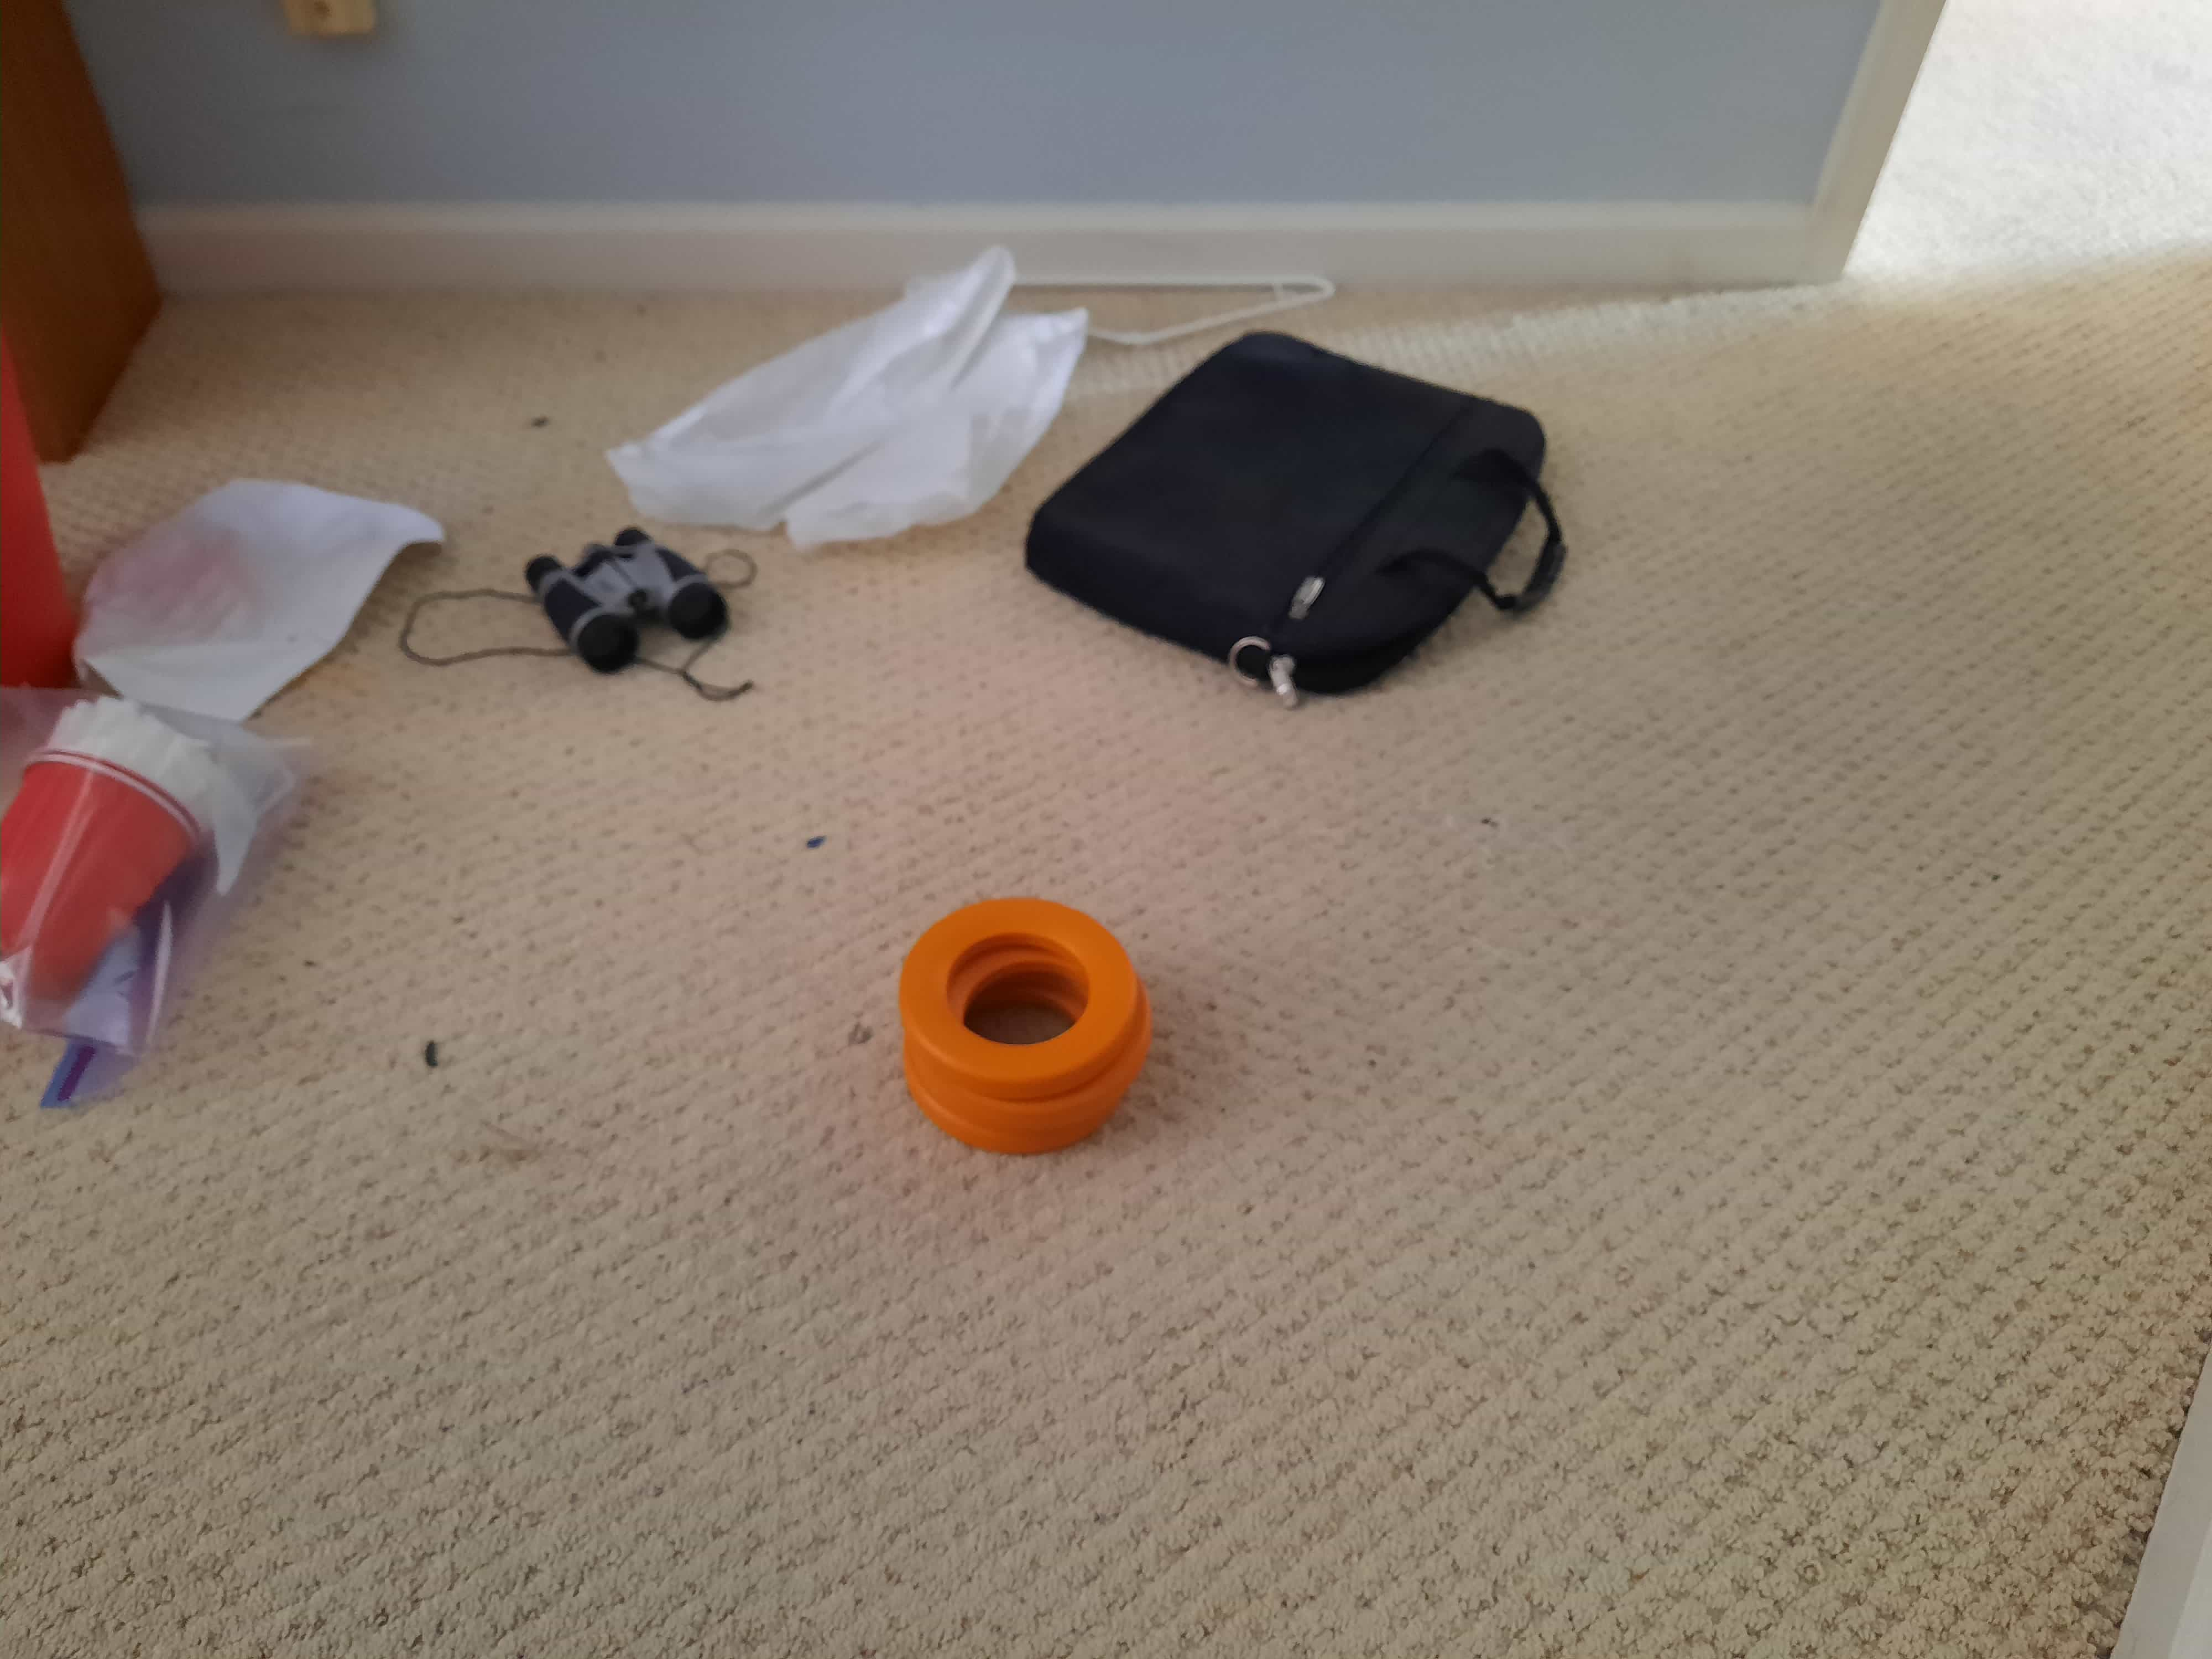FourStack: (895, 904, 1148, 1150)
